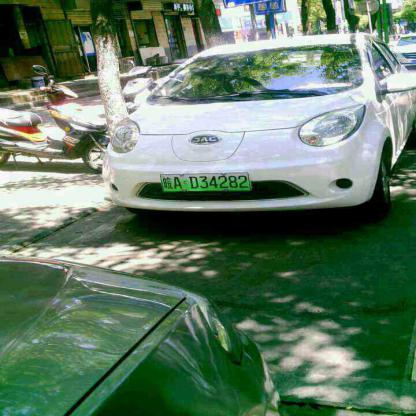lp: (160, 172, 250, 191)
